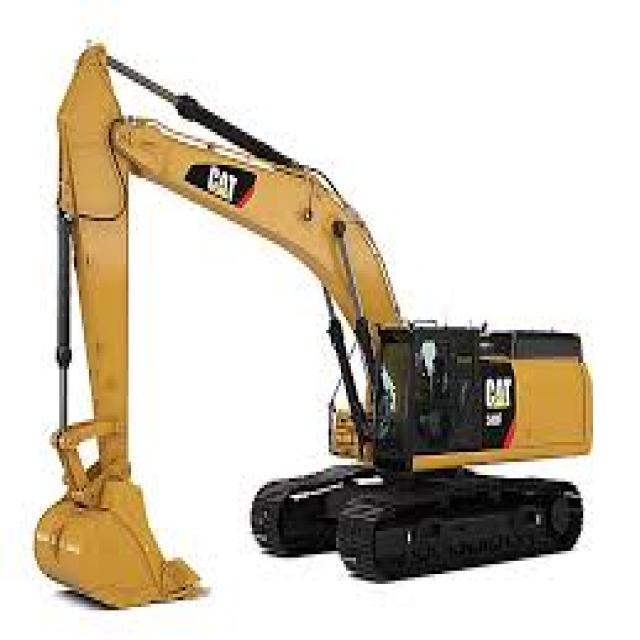excavator: (235, 298, 623, 596)
